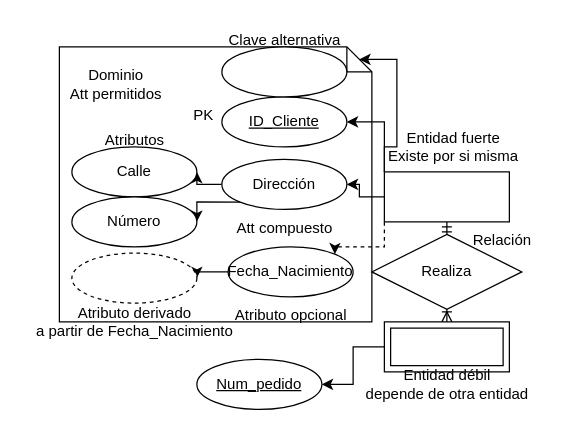
This 566x431 diagram has some shape labels left out. Each missing label, with the box of its shape:
Cliente: (383, 171, 509, 222)
edad: (71, 252, 197, 303)
mail: (221, 46, 347, 97)
Pedido: (383, 321, 509, 372)
